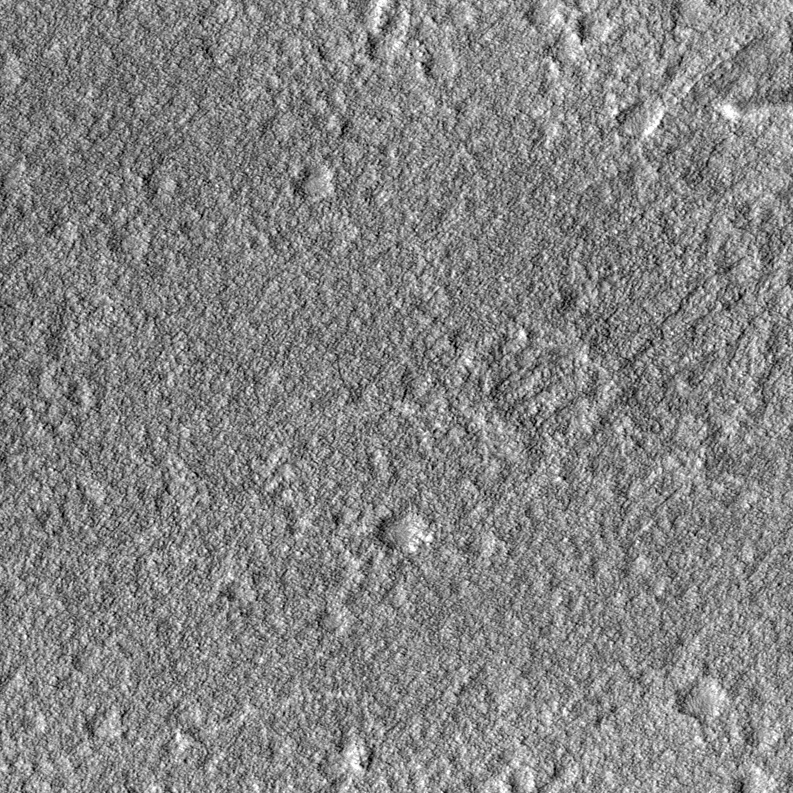dust_devil: (715, 86, 793, 127)
